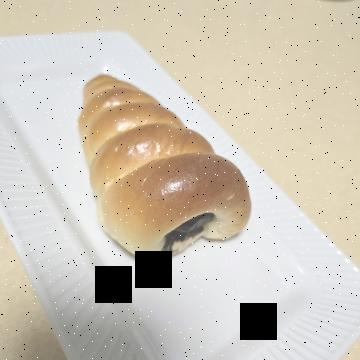cream horn: (64, 109, 290, 299)
